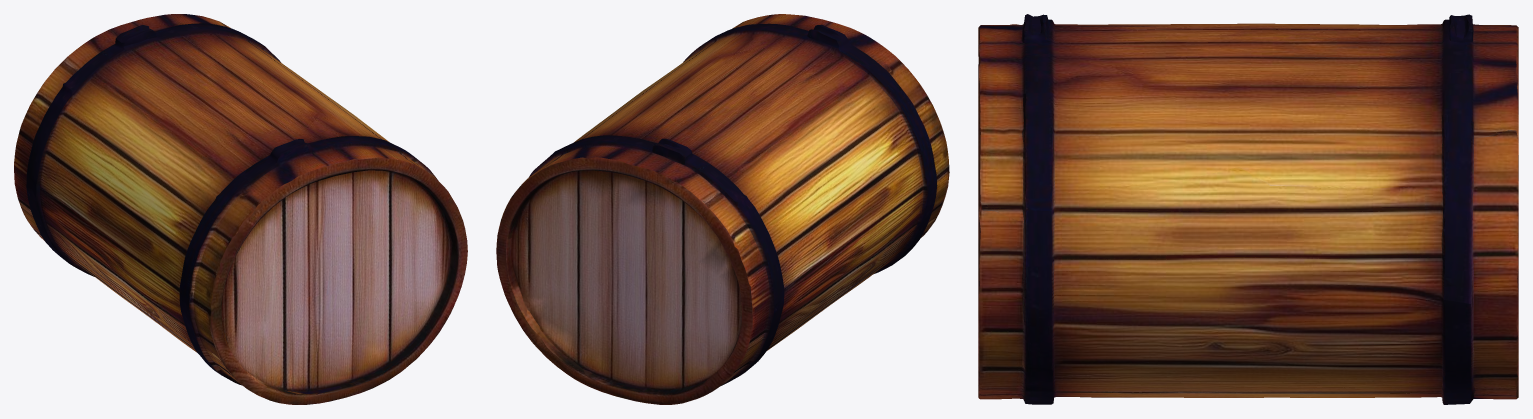
The model's file is cask.glb.
3 views of the same model, side by side, from view 1: azimuth 30°, elevation 25°; view 2: azimuth 150°, elevation 25°; view 3: azimuth 270°, elevation 25° (orthographic). The views are drawn at different scales.
Visible parts, largest first — view 1: cask; view 2: cask; view 3: cask.
Boxes of the visible parts, x1,y1,x2,y2 form: cask: (14, 14, 467, 404); cask: (496, 14, 949, 404); cask: (978, 14, 1518, 404).
Bounding box in the file's own units: 0.7842 × 0.6958 × 1.
1 material, 1 textured.
